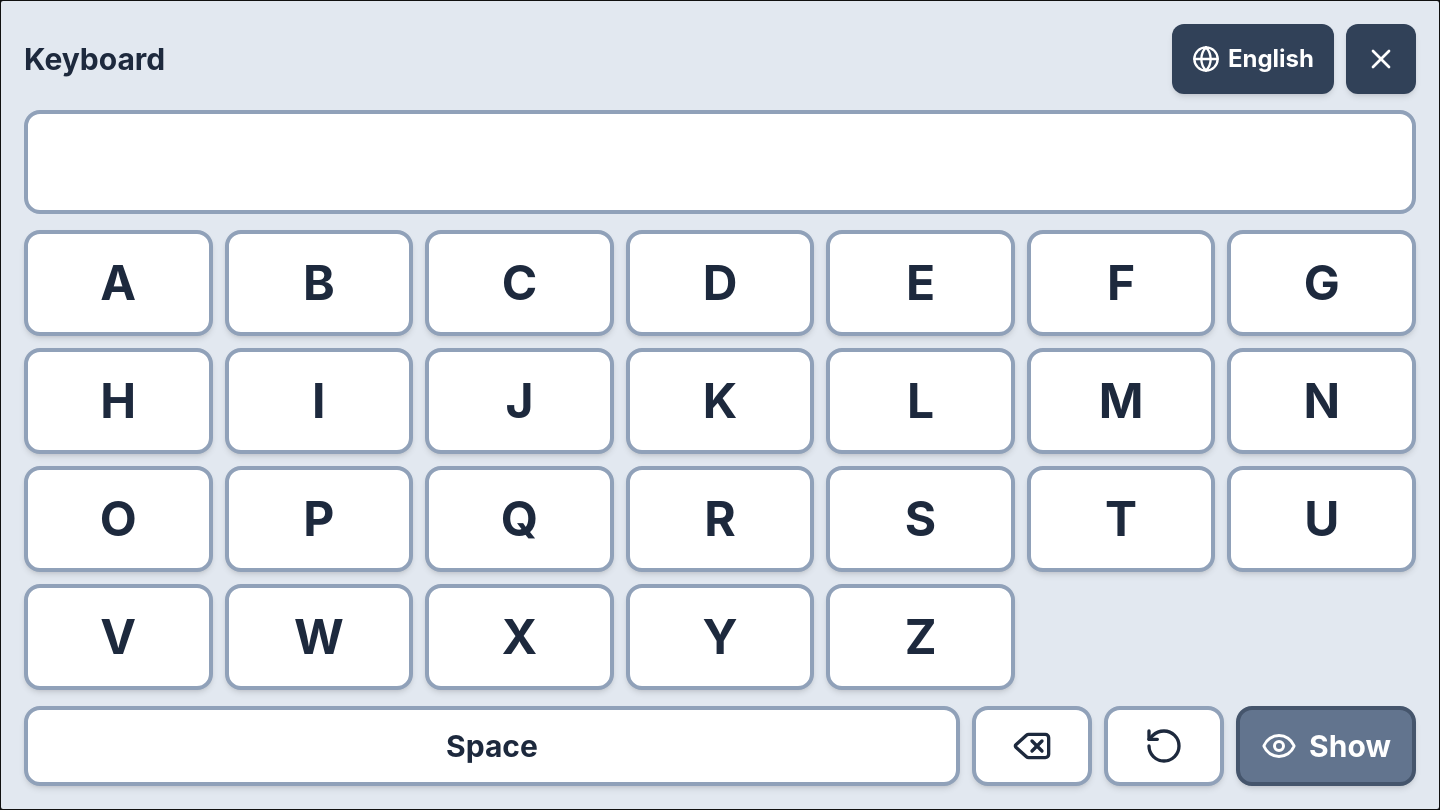
Scenario: KeyboardScreen – User Story 1: type and show › tapping letters appends to the message display
This screenshot has width=1440, height=810.
What coordinates should you click on to do the following:
click the button "W"
I would click on:
 (319, 637)
Its box is [225,584,413,690].
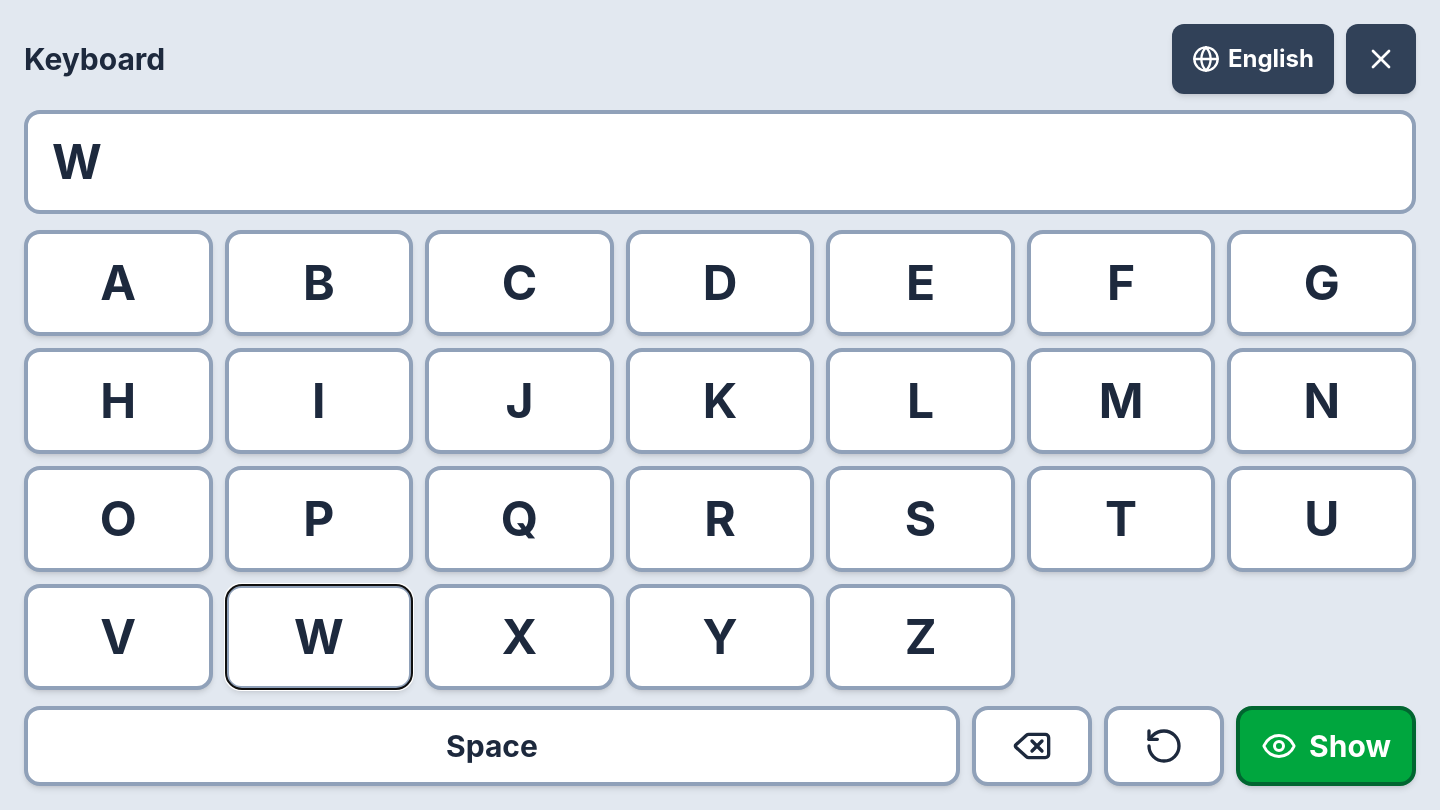
What coordinates should you click on to do the following:
click the button "A"
I would click on:
 (118, 283)
Its box is [24,230,213,336].
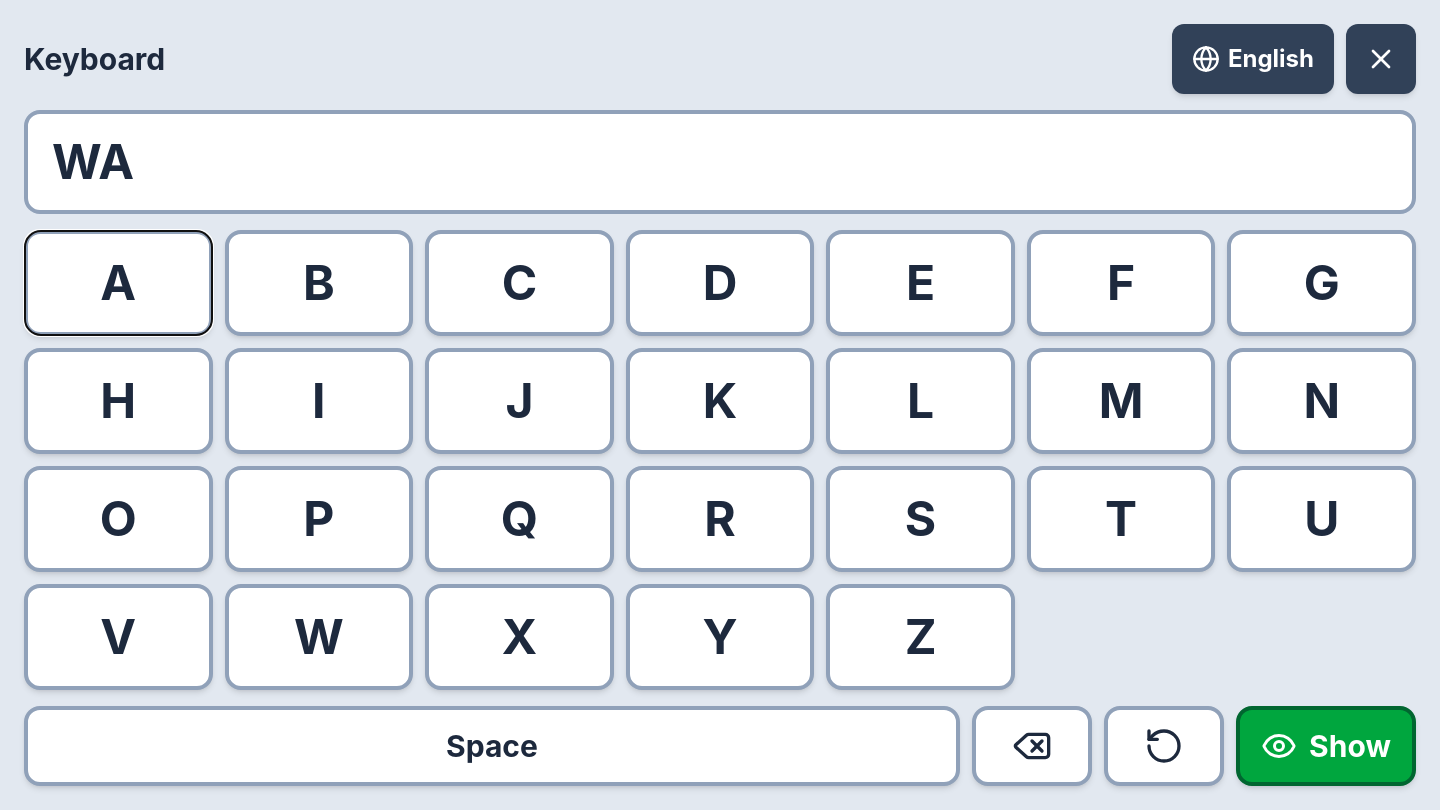
What coordinates should you click on to do the following:
click the button "T"
I would click on:
 (1121, 519)
Its box is [1027,466,1215,572].
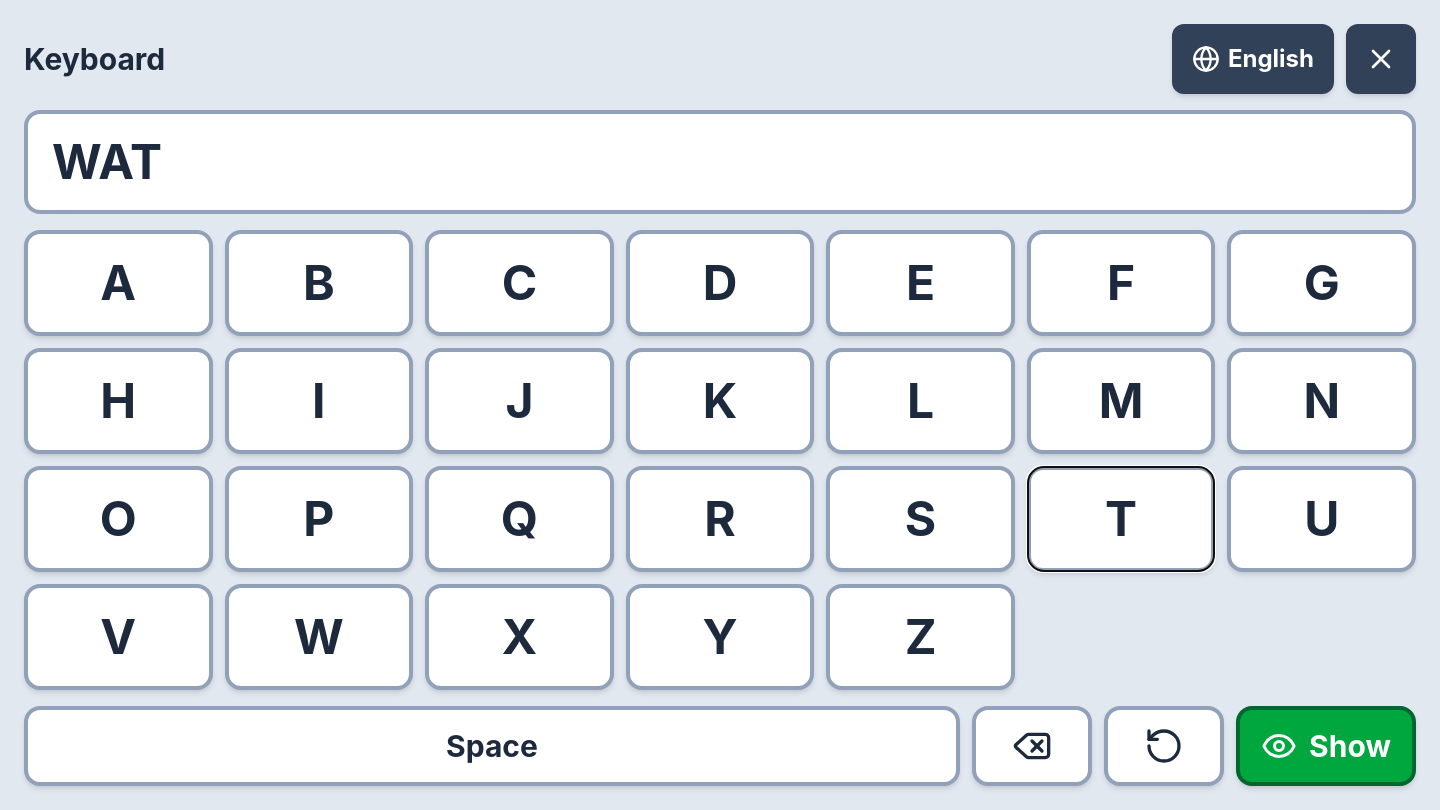
What coordinates should you click on to do the following:
click the button "E"
I would click on:
 (921, 283)
Its box is [826,230,1015,336].
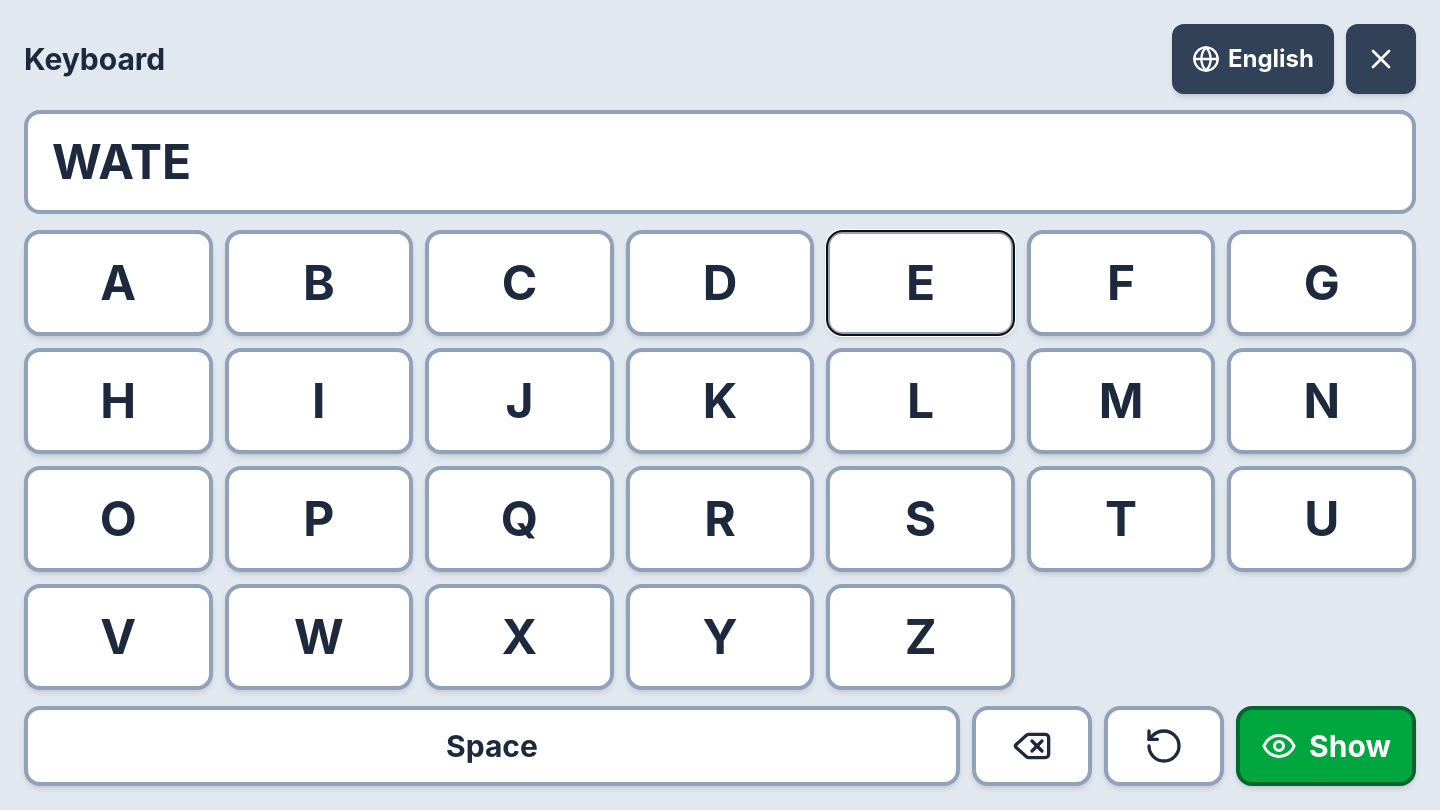
What coordinates should you click on to do the following:
click the button "R"
I would click on:
 (720, 519)
Its box is [626,466,814,572].
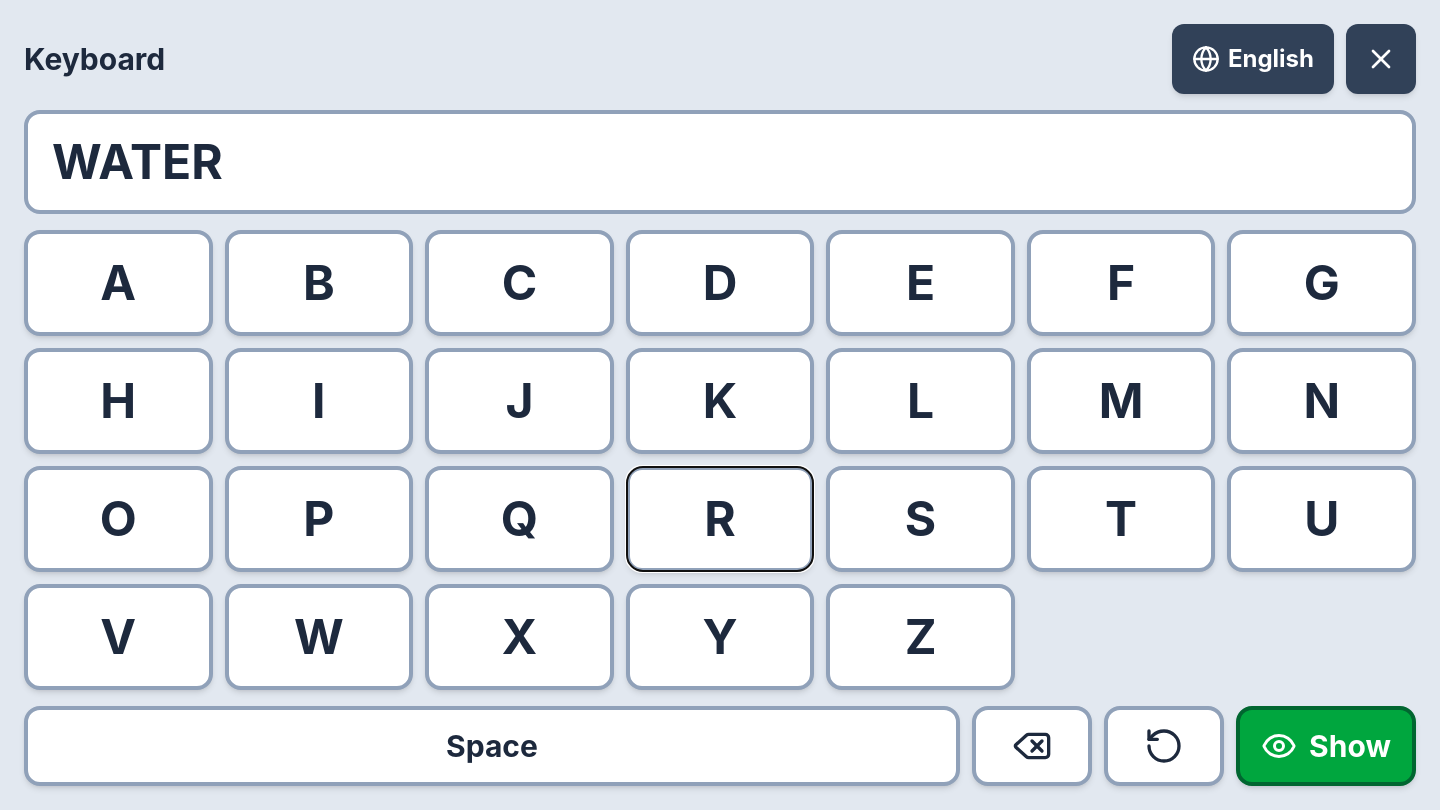
Check: the text with test id "keyboard-message" reads "WATER", box [52,132,223,191]
